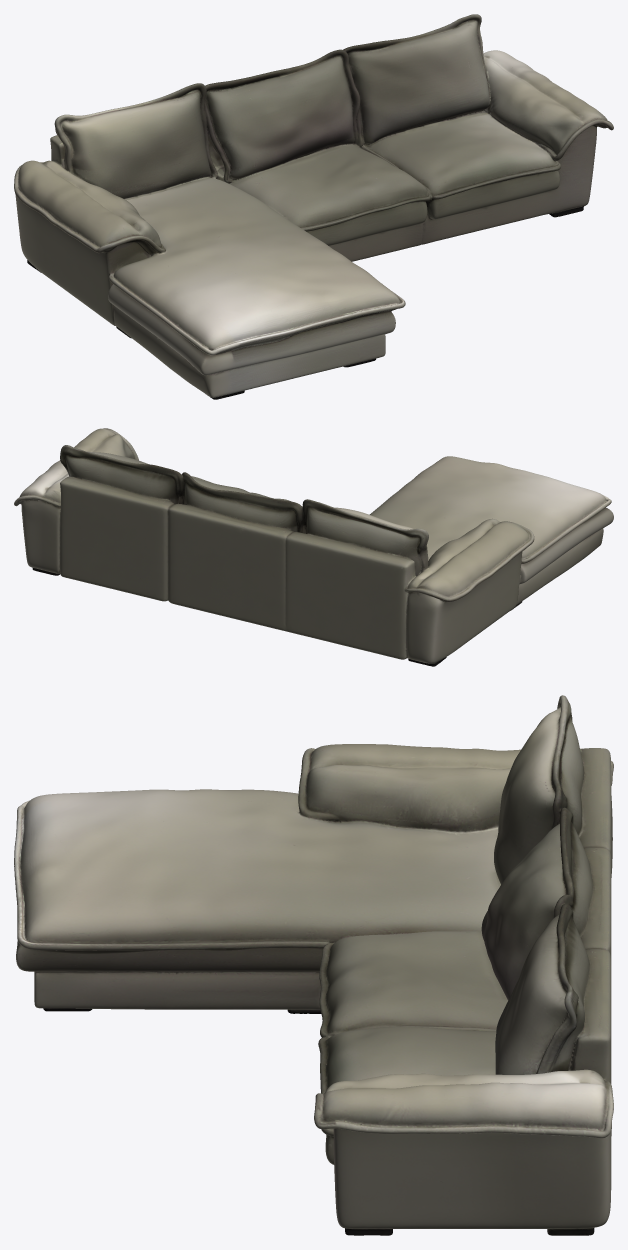
The model's file is sofa-l-beige.glb.
The picture shows the model from 3 angles, top to bottom: view 1: azimuth 30°, elevation 25°; view 2: azimuth 150°, elevation 25°; view 3: azimuth 270°, elevation 25°; orthographic projection. The views are drawn at different scales.
Parts seen in each view (by area): view 1: Mesh_0; view 2: Mesh_0; view 3: Mesh_0.
Boxes of the visible parts, left/top/right/bottom form: Mesh_0: left=14, top=14, right=613, bottom=399; Mesh_0: left=14, top=428, right=613, bottom=666; Mesh_0: left=14, top=695, right=613, bottom=1235.
Bounding box in the file's own units: 3.07 × 0.85 × 2.1.
Materials: 1 (1 with a texture image).
